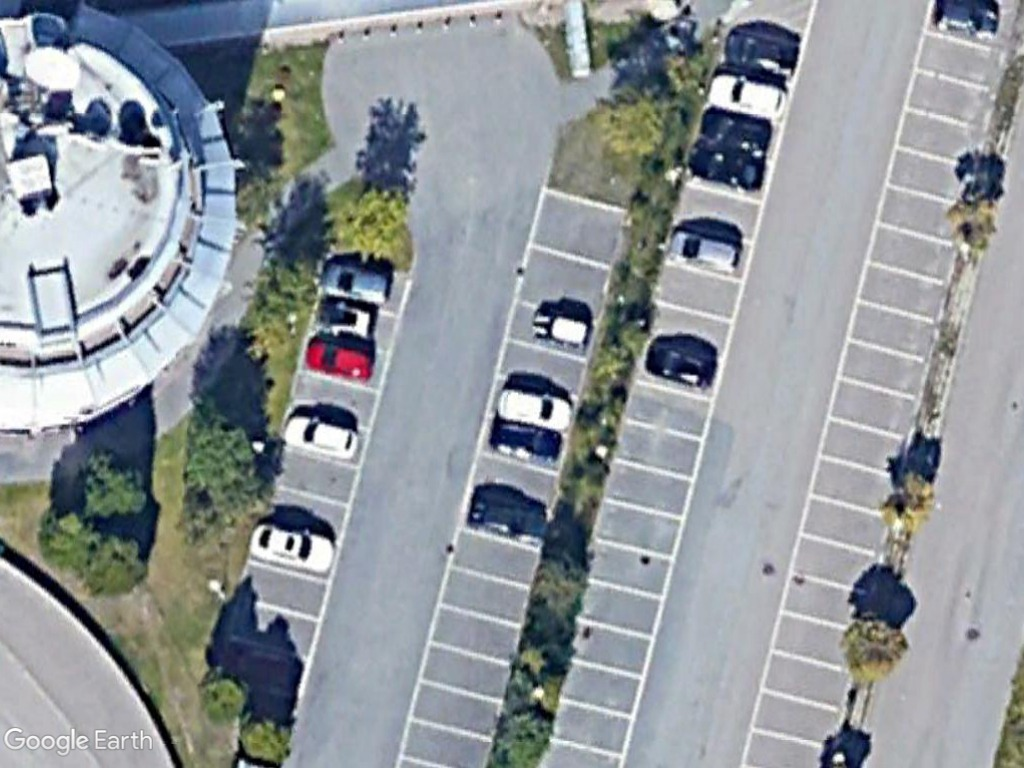car: (243, 518, 344, 578), (705, 67, 793, 123), (276, 412, 365, 465), (664, 223, 747, 279), (494, 381, 577, 434), (641, 341, 719, 395), (315, 255, 397, 306), (301, 336, 381, 385)
